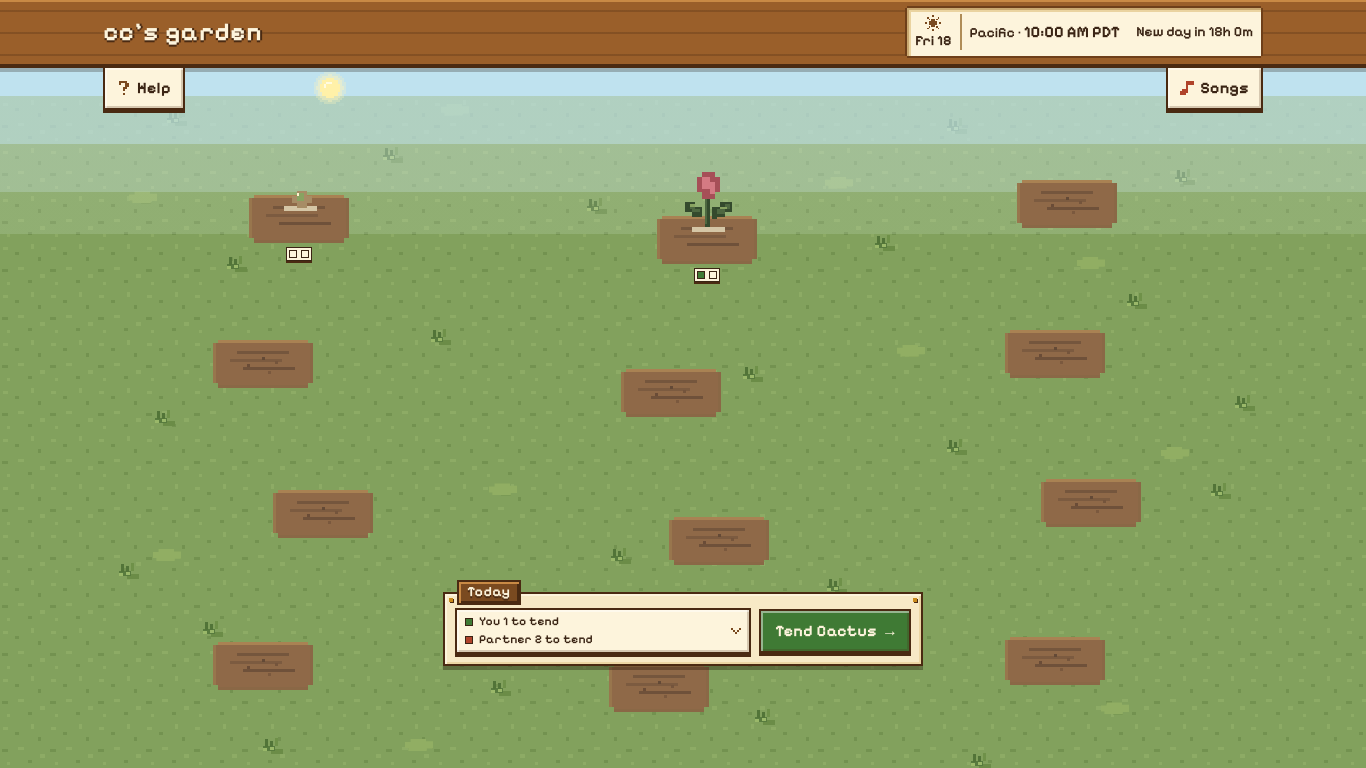
Test: absorbs blooms, unlocks and badges from your own action opened by the Today card and still shows partner care
Click the button "Tend Cactus →".
click(835, 631)  # box left=759, top=609, right=911, bottom=653
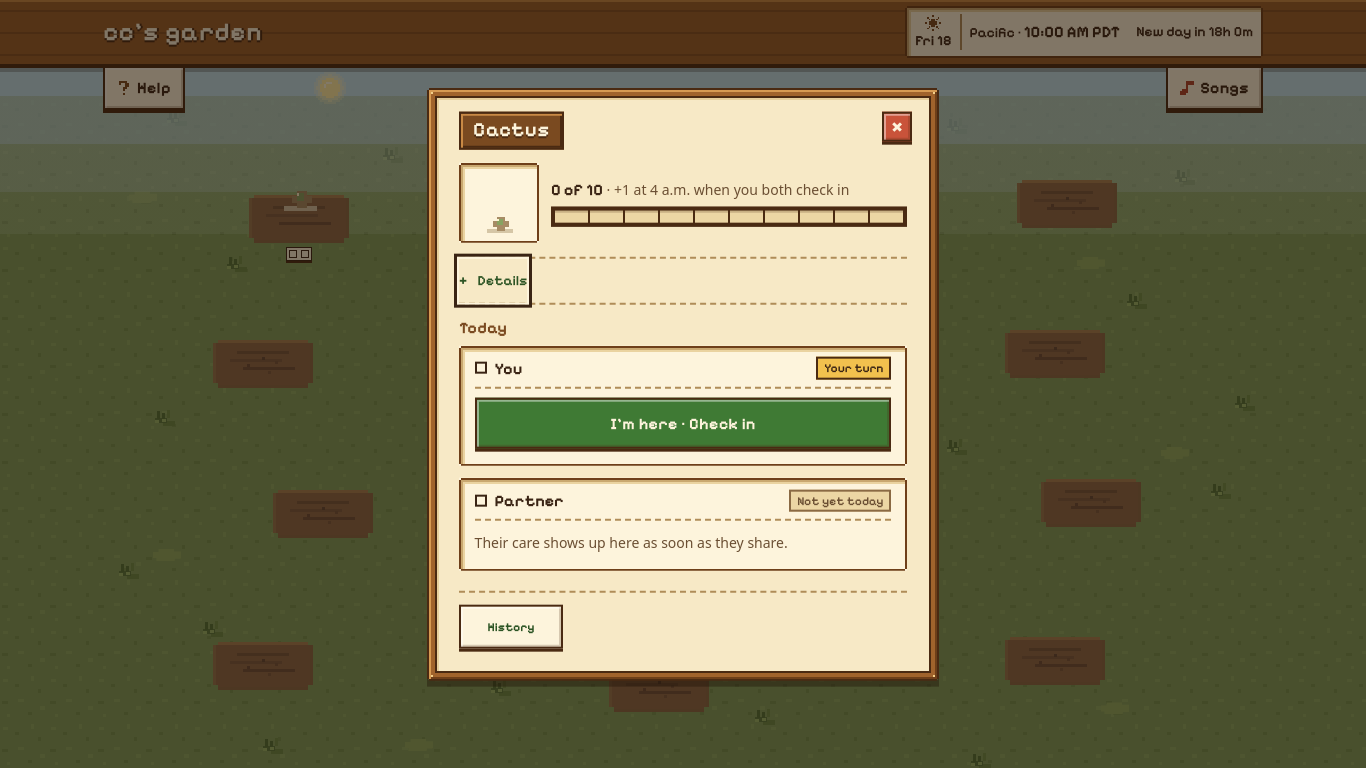
Click the button "I’m here · Check in".
click(683, 423)  # box left=475, top=398, right=891, bottom=448
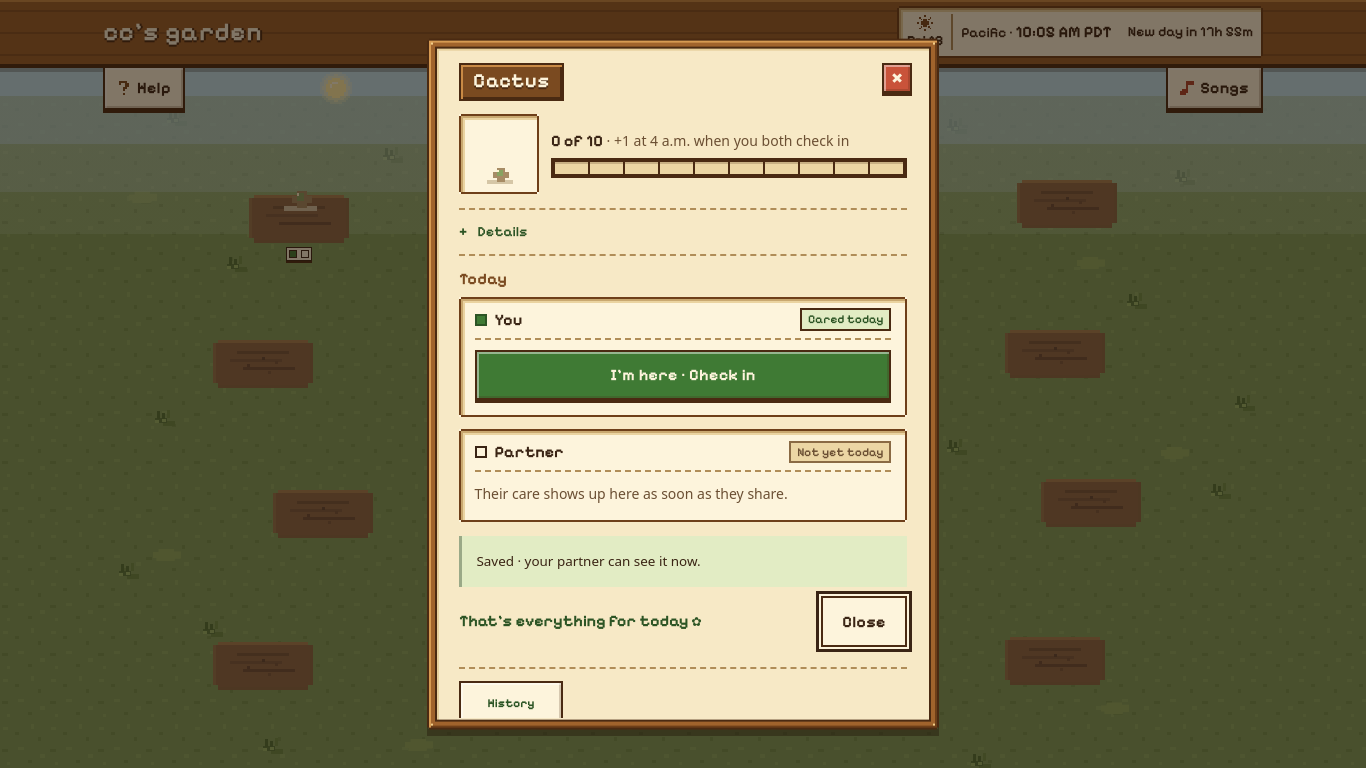
Press Escape
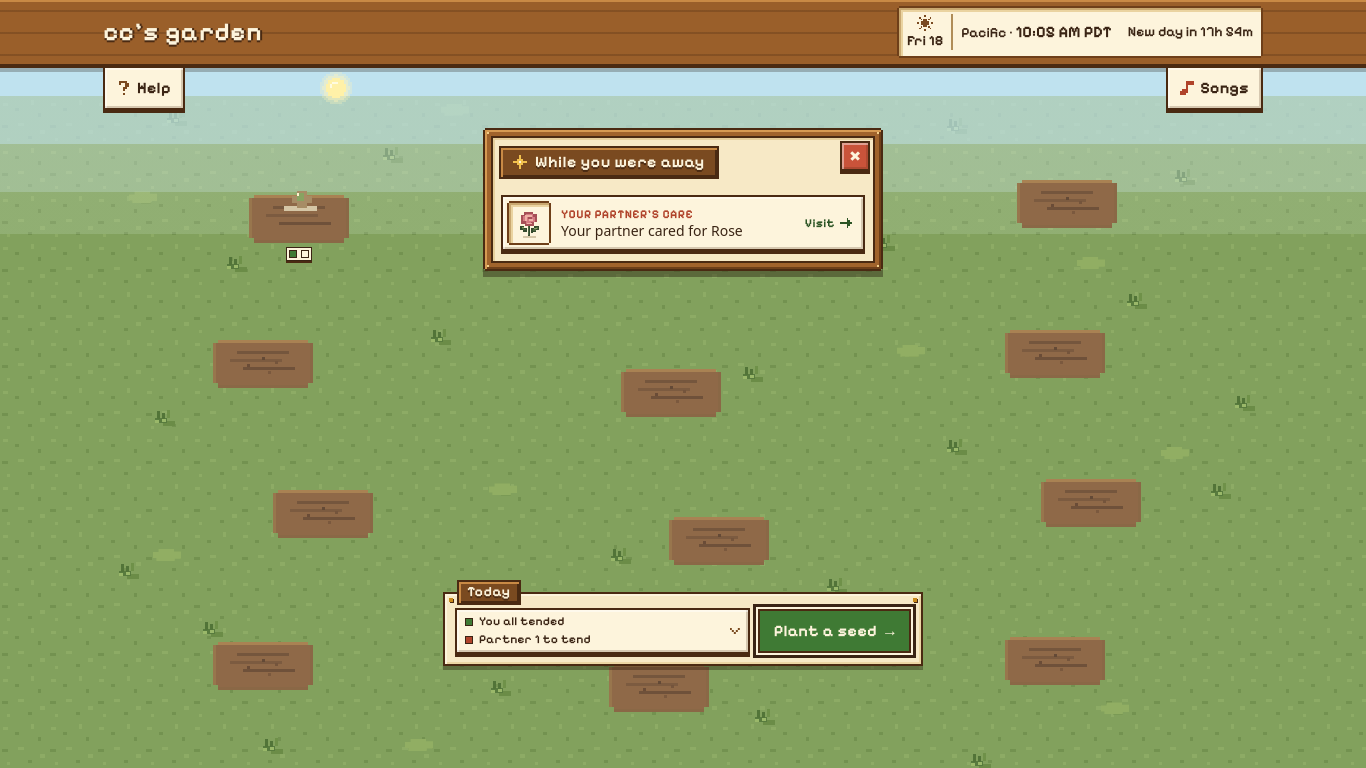
Result: the dialog is gone
Result: the text "Your partner cared for Rose" is shown at left=561, top=221, right=743, bottom=240
